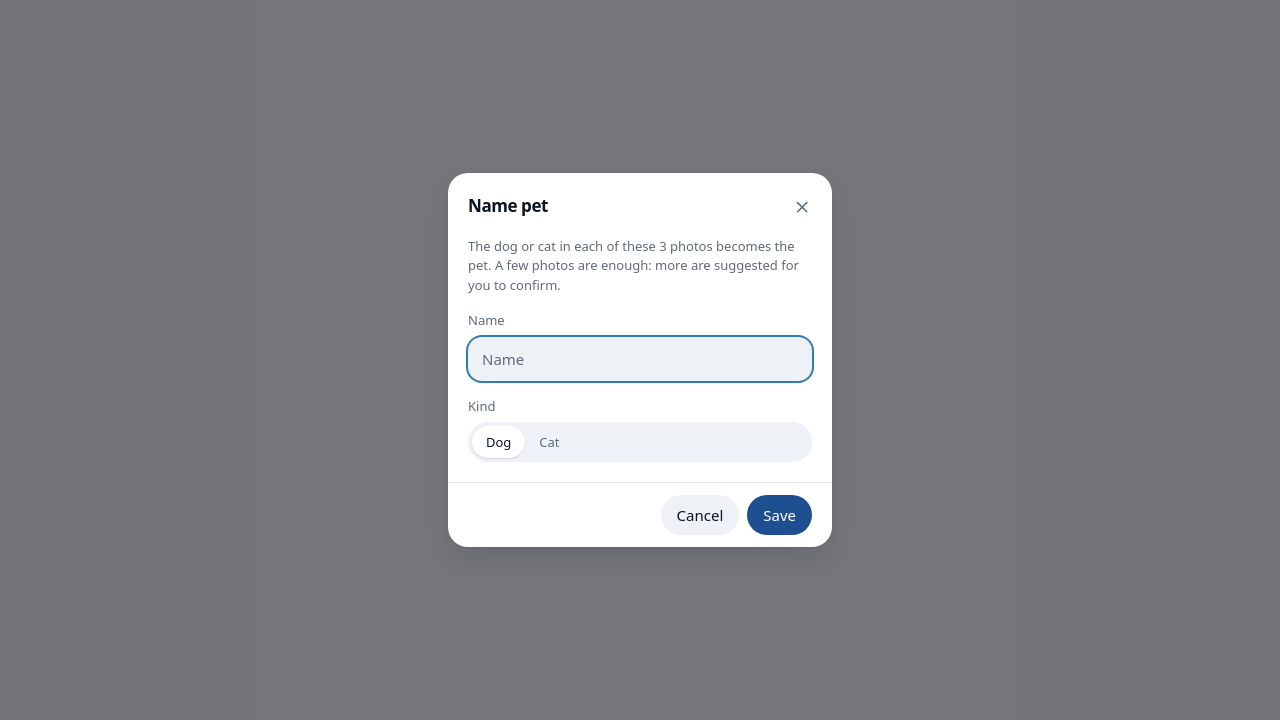
NamePetSheet › explains the photos that were left out also when one of the others had to be chosen
The image size is (1280, 720).
Type "Pet A" into the field labelled "Name" at (640, 359), box left=468, top=337, right=812, bottom=381
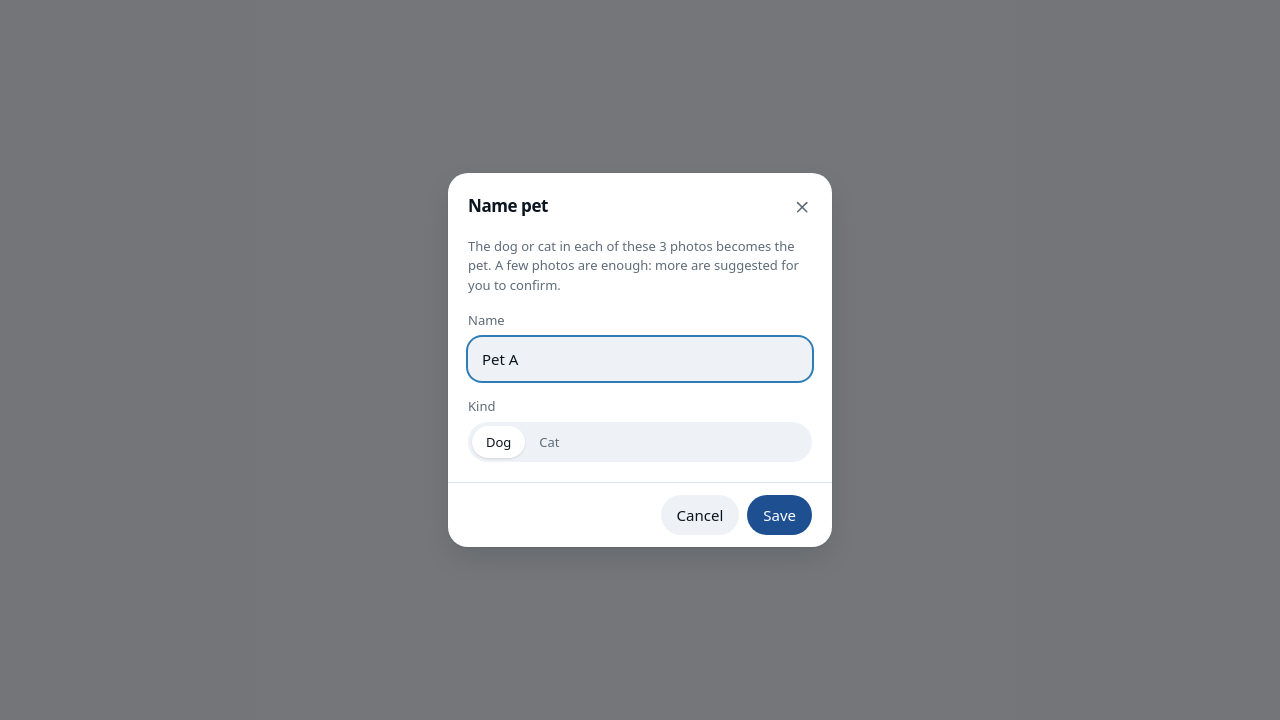
Click the button "Save" at (780, 515), box left=747, top=495, right=812, bottom=535
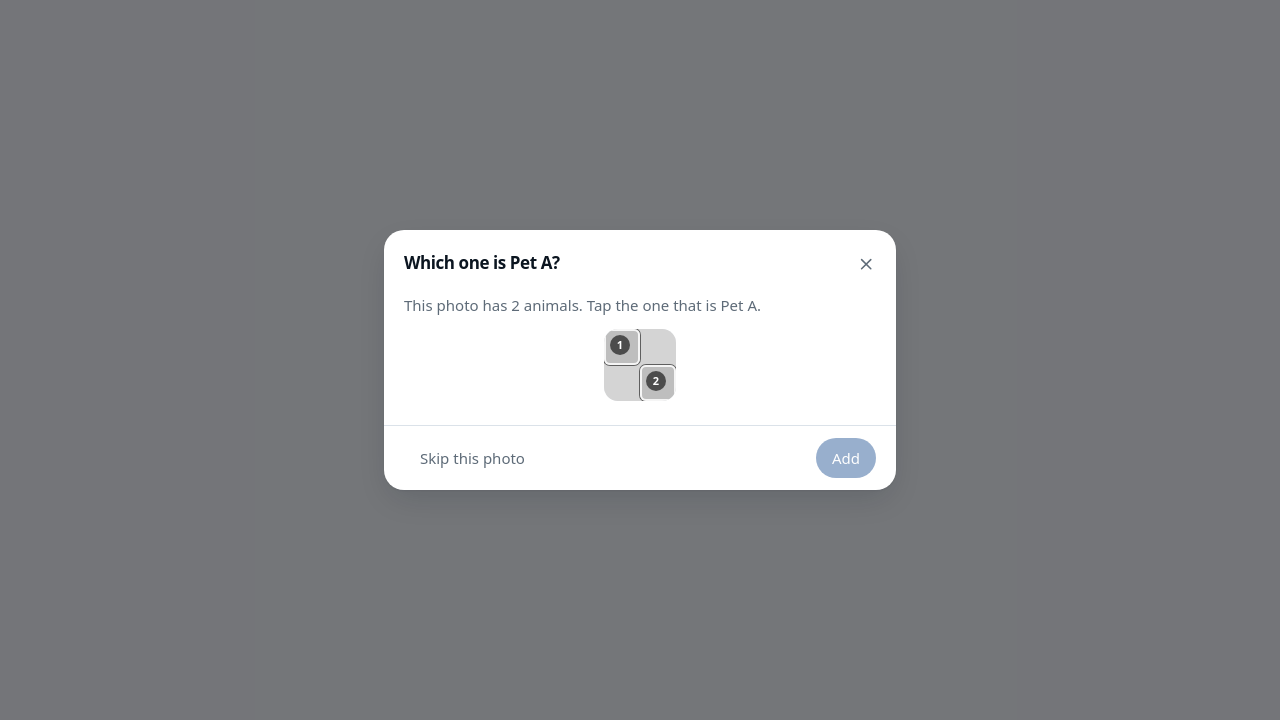
Click the button named "Animal 2 of 2, dog" at (658, 383), box left=640, top=365, right=676, bottom=401
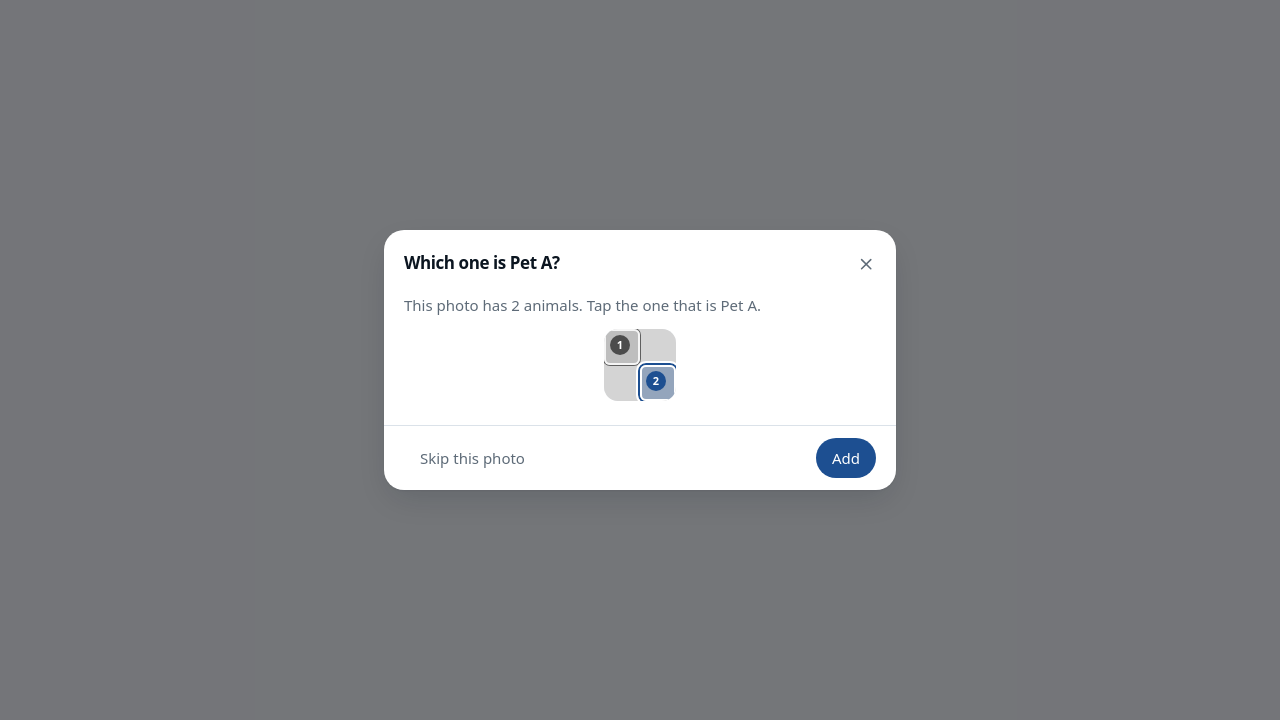
Click the button "Add" at (846, 458), box left=816, top=438, right=876, bottom=478
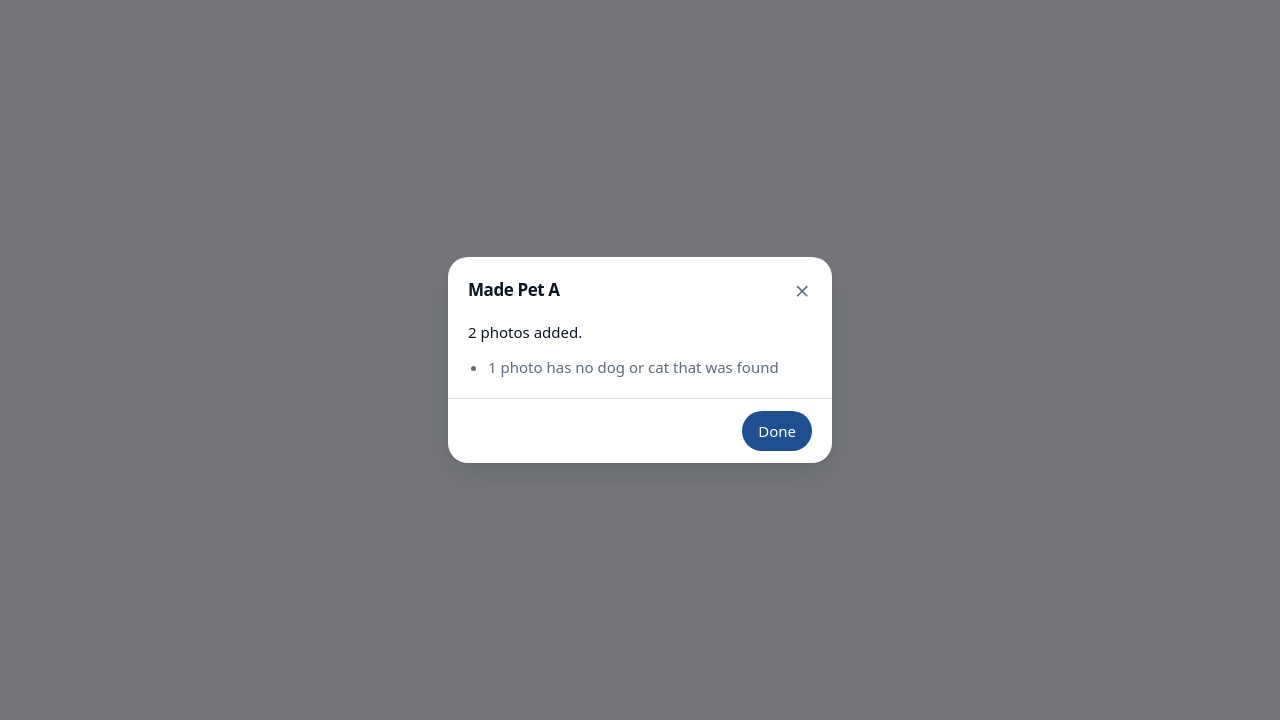
Check: the text "2 photos added." is shown, box left=468, top=322, right=582, bottom=342
Check: the list item "1 photo has no dog or cat that was found" is shown, box left=488, top=356, right=812, bottom=378
